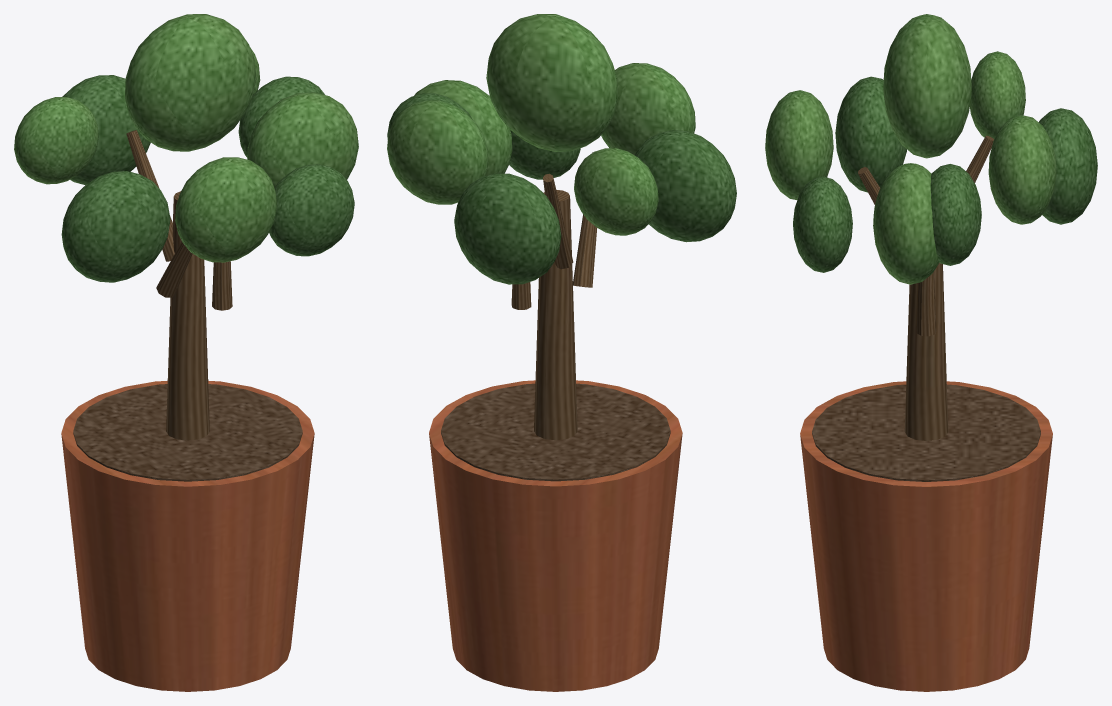
The model's file is plant.glb.
3 renders of one model, left to right at view 1: azimuth 30°, elevation 25°; view 2: azimuth 150°, elevation 25°; view 3: azimuth 270°, elevation 25°, orthographic.
Parts seen in each view (by area): view 1: pot_leaves, pot_pot, pot_soil, pot_trunk; view 2: pot_leaves, pot_pot, pot_soil, pot_trunk; view 3: pot_leaves, pot_pot, pot_soil, pot_trunk.
Boxes of the visible parts, x1,y1,x2,y2 form: pot_leaves: [14, 14, 358, 282]; pot_pot: [61, 380, 314, 691]; pot_soil: [73, 384, 302, 481]; pot_trunk: [126, 130, 232, 440]; pot_leaves: [387, 14, 736, 284]; pot_pot: [429, 380, 682, 691]; pot_soil: [441, 383, 670, 481]; pot_trunk: [511, 152, 597, 440]; pot_leaves: [765, 14, 1097, 284]; pot_pot: [800, 381, 1052, 691]; pot_soil: [812, 384, 1040, 481]; pot_trunk: [858, 135, 993, 440].
Bounding box in the file's own units: 0.4525 × 0.8787 × 0.421.
5 materials, 5 textured.
